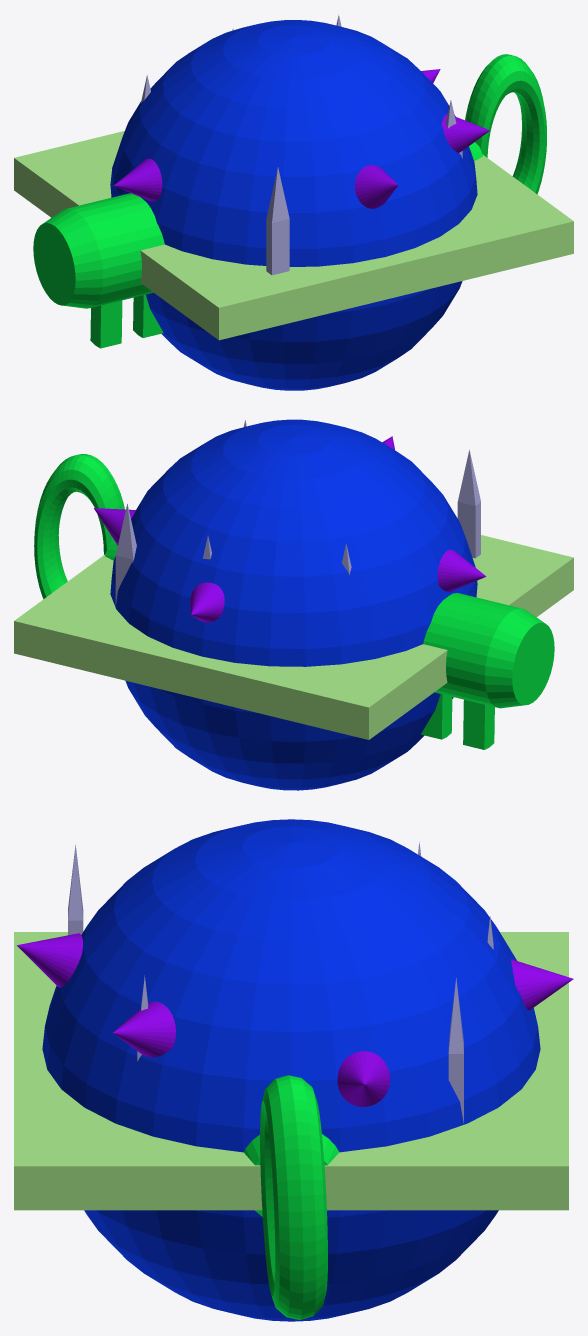
File: add points g.fbx
3 views of the same model, one above another, from view 1: azimuth 30°, elevation 25°; view 2: azimuth 150°, elevation 25°; view 3: azimuth 270°, elevation 25° (orthographic). The views are drawn at different scales.
Parts seen in each view (by area): view 1: substract time, trap, key; view 2: substract time, trap, key; view 3: substract time, trap, key.
Part boxes in pixels (left/top/right/bottom): substract time: left=110, top=20, right=489, bottom=390; trap: left=14, top=14, right=573, bottom=340; key: left=33, top=54, right=546, bottom=348; substract time: left=94, top=419, right=486, bottom=790; trap: left=14, top=420, right=573, bottom=739; key: left=34, top=454, right=554, bottom=749; substract time: left=17, top=819, right=573, bottom=1321; trap: left=14, top=842, right=568, bottom=1210; key: left=243, top=1075, right=339, bottom=1319.
Bounding box in the file's own units: 1108 × 725 × 807.
